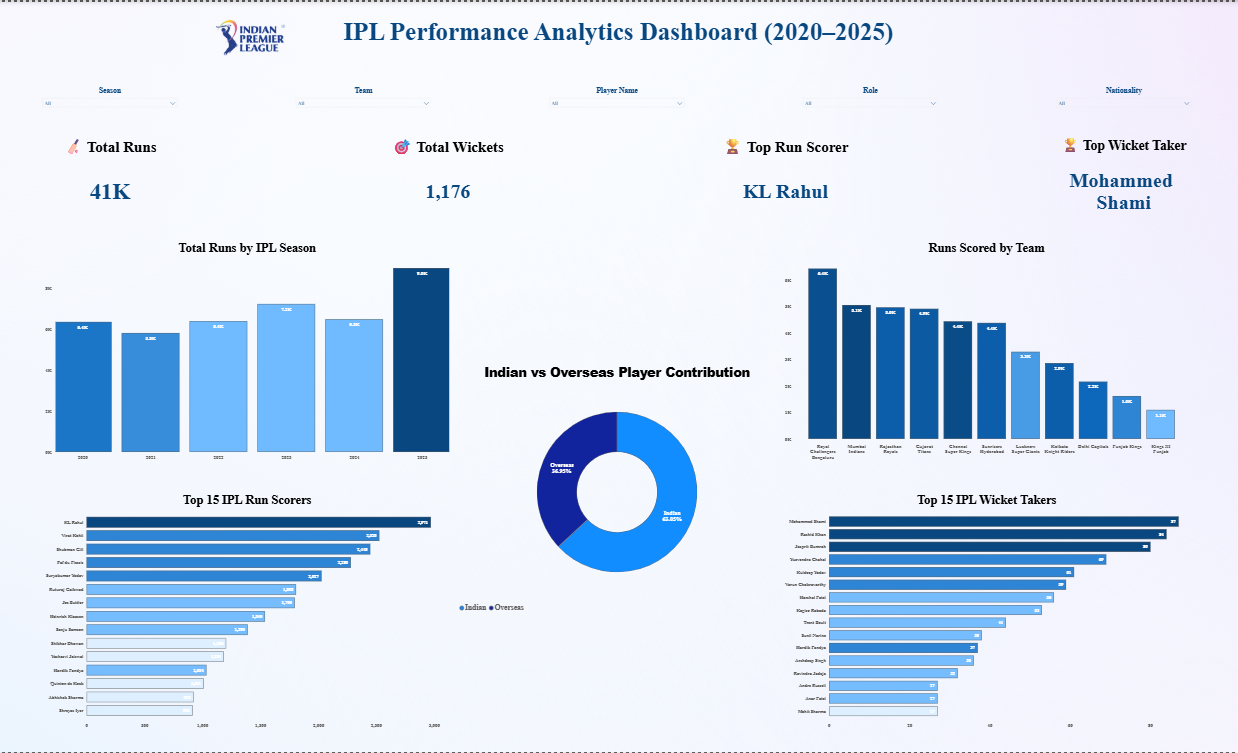

This screenshot's page, from the dashboard's own definition file:
{"tool":"powerbi","page":{"name":"IPL Performance Analysis","canvas":[3300,2000],"ordinal":0},"visuals":[{"type":"textbox","title":"IPL Performance Analytics Dashboard (2020–2025)","box":[113.3,40,3073.3,150],"z":0,"group":"g1"},{"type":"card","title":"🏏  Total Runs ","fields":{"Values":["IPL_2020_to_2025_Raw.Total Runs"]},"box":[107.9,343.5,368.8,260.9],"z":0,"group":"g2"},{"type":"image","box":[516.6,0,303.3,190],"z":1000,"group":"g1"},{"type":"clusteredColumnChart","title":"Total Runs by IPL Season","fields":{"Category":["IPL_2020_to_2025_Raw.Season"],"Y":["IPL_2020_to_2025_Raw.Total Runs"]},"box":[107.9,625.2,1102,611.7],"z":1000},{"type":"card","title":"🏆 Top Wicket Taker","fields":{"Values":["IPL_2020_to_2025_Raw.Top Wicket Taker"]},"box":[2811.1,343.5,368.8,260.9],"z":2000,"group":"g2"},{"type":"card","title":"🏆  Top Run Scorer","fields":{"Values":["IPL_2020_to_2025_Raw.Top Run Scorer"]},"box":[1908.5,343.5,373.3,260.9],"z":3000,"group":"g2"},{"type":"card","title":"🎯 Total Wickets","fields":{"Values":["IPL_2020_to_2025_Raw.Total Wickets"]},"box":[1006,343.5,373.3,260.9],"z":4000,"group":"g2"},{"type":"clusteredBarChart","title":"Top 15 IPL Run Scorers","fields":{"Category":["IPL_2020_to_2025_Raw.Player_Name"],"Y":["IPL_2020_to_2025_Raw.Total Runs"]},"box":[107.9,1295.4,1102,656.7],"z":5000},{"type":"clusteredBarChart","title":"Top 15 IPL Wicket Takers","fields":{"Category":["IPL_2020_to_2025_Raw.Player_Name"],"Y":["IPL_2020_to_2025_Raw.Total Wickets"]},"box":[2078,1295.4,1102,656.7],"z":6000},{"type":"clusteredColumnChart","title":"Runs Scored by Team","fields":{"Y":["IPL_2020_to_2025_Raw.Total Runs"],"Category":["IPL_2020_to_2025_Raw.Team"]},"box":[2078,625.2,1102,611.7],"z":7000},{"type":"donutChart","title":"Indian vs Overseas Player Contribution","fields":{"Category":["IPL_2020_to_2025_Raw.Indian/Overseas"],"Y":["IPL_2020_to_2025_Raw.Total Runs"]},"box":[1210,950,866.7,693.3],"z":8000},{"type":"slicer","title":"Season","fields":{"Values":["IPL_2020_to_2025_Raw.Season"]},"box":[108,226.6,370,74],"z":9000,"group":"g3"},{"type":"slicer","title":"Team","fields":{"Values":["IPL_2020_to_2025_Raw.Team"]},"box":[783.5,225.3,370,76.7],"z":10000,"group":"g3"},{"type":"slicer","title":"Player Name","fields":{"Values":["IPL_2020_to_2025_Raw.Player_Name"]},"box":[1459,225.3,370,76.7],"z":11000,"group":"g3"},{"type":"slicer","title":"Role","fields":{"Values":["IPL_2020_to_2025_Raw.Role"]},"box":[2134.5,225.3,370,76.7],"z":12000,"group":"g3"},{"type":"slicer","title":"Nationality","fields":{"Values":["IPL_2020_to_2025_Raw.Nationality"]},"box":[2810,225.3,370,76.7],"z":13000,"group":"g3"},{"type":"group","id":"g1","title":"Group 1","box":[113.3,0,3073.3,190],"z":13001},{"type":"group","id":"g2","title":"Group 2","box":[107.9,343.5,3072,260.9],"z":13002,"group":"g3"},{"type":"group","id":"g3","title":"Group 3","box":[107.9,225.3,3072.1,379.1],"z":13003}]}

Visuals, with their boxes in screenshot pixels (x1, y1, x2, y2), scaled from the page's 3300x2000 canvas onto the 1238x753 screenshot:
"IPL Performance Analytics Dashboard (2020–2025)" textbox: x1=43, y1=15, x2=1195, y2=72
"🏏  Total Runs " card: x1=40, y1=129, x2=179, y2=228
image: x1=194, y1=0, x2=308, y2=72
"Total Runs by IPL Season" clusteredColumnChart: x1=40, y1=235, x2=454, y2=466
"🏆 Top Wicket Taker" card: x1=1055, y1=129, x2=1193, y2=228
"🏆  Top Run Scorer" card: x1=716, y1=129, x2=856, y2=228
"🎯 Total Wickets" card: x1=377, y1=129, x2=517, y2=228
"Top 15 IPL Run Scorers" clusteredBarChart: x1=40, y1=488, x2=454, y2=735
"Top 15 IPL Wicket Takers" clusteredBarChart: x1=780, y1=488, x2=1193, y2=735
"Runs Scored by Team" clusteredColumnChart: x1=780, y1=235, x2=1193, y2=466
"Indian vs Overseas Player Contribution" donutChart: x1=454, y1=358, x2=779, y2=619
"Season" slicer: x1=41, y1=85, x2=179, y2=113
"Team" slicer: x1=294, y1=85, x2=433, y2=114
"Player Name" slicer: x1=547, y1=85, x2=686, y2=114
"Role" slicer: x1=801, y1=85, x2=940, y2=114
"Nationality" slicer: x1=1054, y1=85, x2=1193, y2=114
"Group 1" group: x1=43, y1=0, x2=1195, y2=72
"Group 2" group: x1=40, y1=129, x2=1193, y2=228
"Group 3" group: x1=40, y1=85, x2=1193, y2=228
